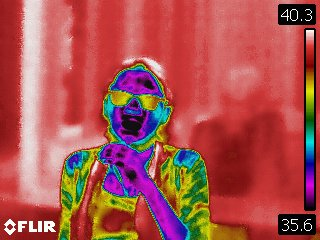human: (60, 57, 211, 240)
